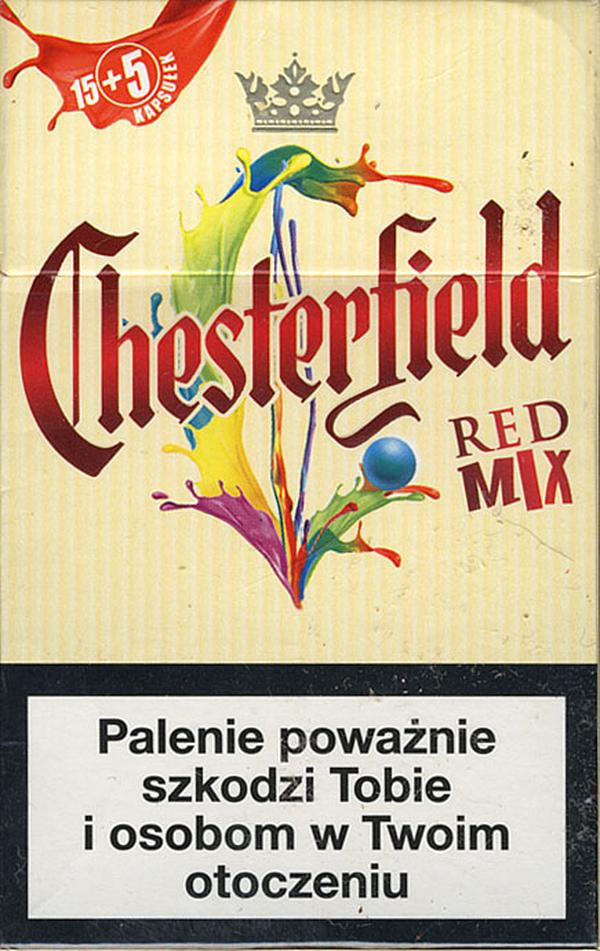chesterfield_red: (3, 5, 600, 943)
